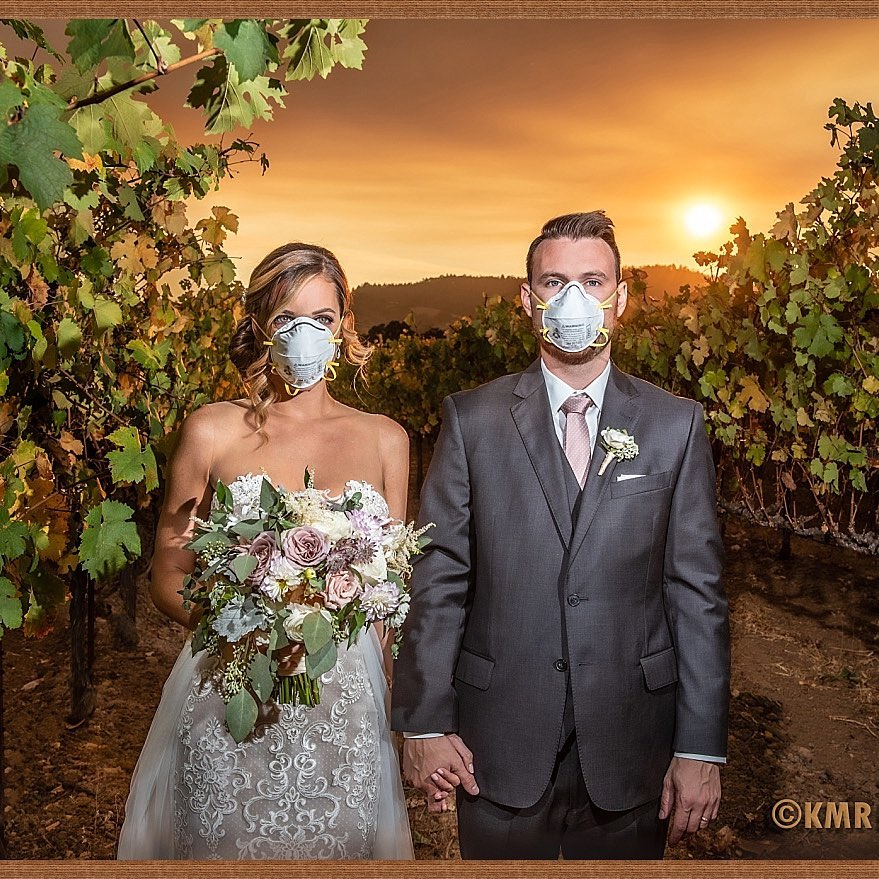n95: (258, 318, 341, 393), (533, 282, 613, 356)
